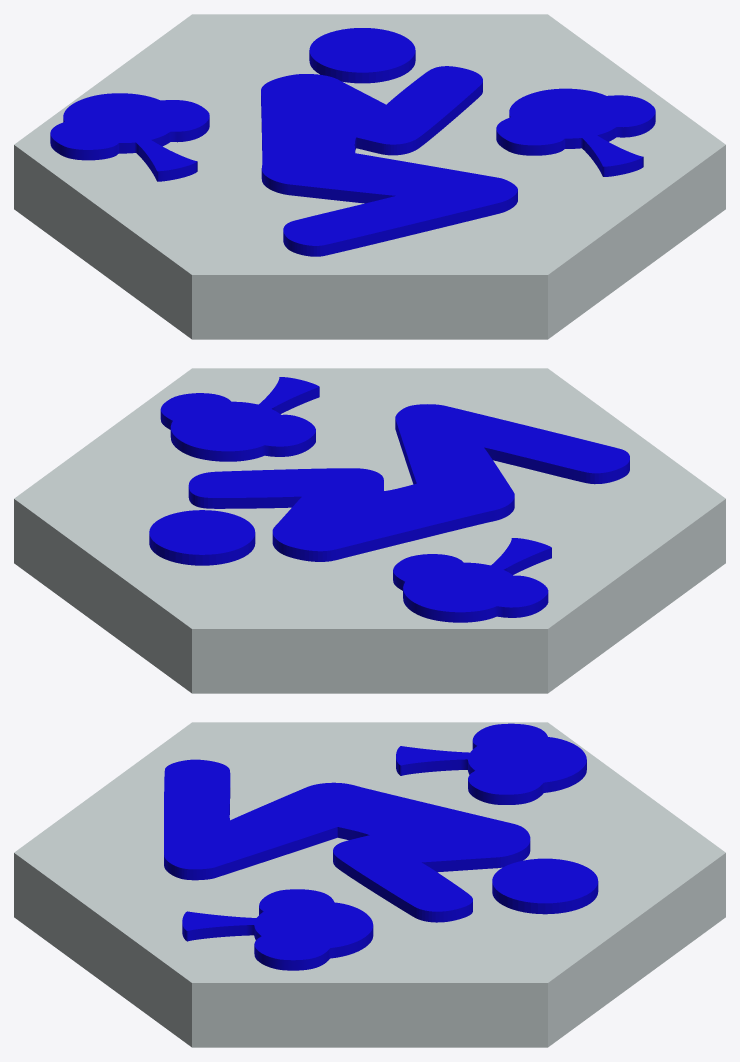
The model's file is nature-devotee.fbx.
3 renders of one model, top to bottom at view 1: azimuth 30°, elevation 25°; view 2: azimuth 150°, elevation 25°; view 3: azimuth 270°, elevation 25°, orthographic.
Parts seen in each view (by area): view 1: Devotee|Cylinder.003|Dupli|3, Devotee|$.018|Dupli|, Devotee|BezierCurve.011|Dupli|1, Devotee|BezierCurve.012|Dupli|2; view 2: Devotee|Cylinder.003|Dupli|3, Devotee|$.018|Dupli|, Devotee|BezierCurve.011|Dupli|1, Devotee|BezierCurve.012|Dupli|2; view 3: Devotee|Cylinder.003|Dupli|3, Devotee|$.018|Dupli|, Devotee|BezierCurve.011|Dupli|1, Devotee|BezierCurve.012|Dupli|2.
Boxes of the visible parts, box(x1,y1,x2,y2) form: Devotee|Cylinder.003|Dupli|3: box(14, 14, 725, 339); Devotee|$.018|Dupli|: box(261, 28, 517, 256); Devotee|BezierCurve.011|Dupli|1: box(496, 88, 655, 176); Devotee|BezierCurve.012|Dupli|2: box(50, 93, 209, 181); Devotee|Cylinder.003|Dupli|3: box(14, 368, 725, 693); Devotee|$.018|Dupli|: box(149, 404, 629, 565); Devotee|BezierCurve.011|Dupli|1: box(160, 377, 319, 461); Devotee|BezierCurve.012|Dupli|2: box(393, 538, 551, 622); Devotee|Cylinder.003|Dupli|3: box(14, 722, 725, 1047); Devotee|$.018|Dupli|: box(164, 759, 598, 922); Devotee|BezierCurve.011|Dupli|1: box(182, 889, 373, 970); Devotee|BezierCurve.012|Dupli|2: box(396, 723, 586, 804).
Size of the model in its own units: 173 by 23.35 by 200.
